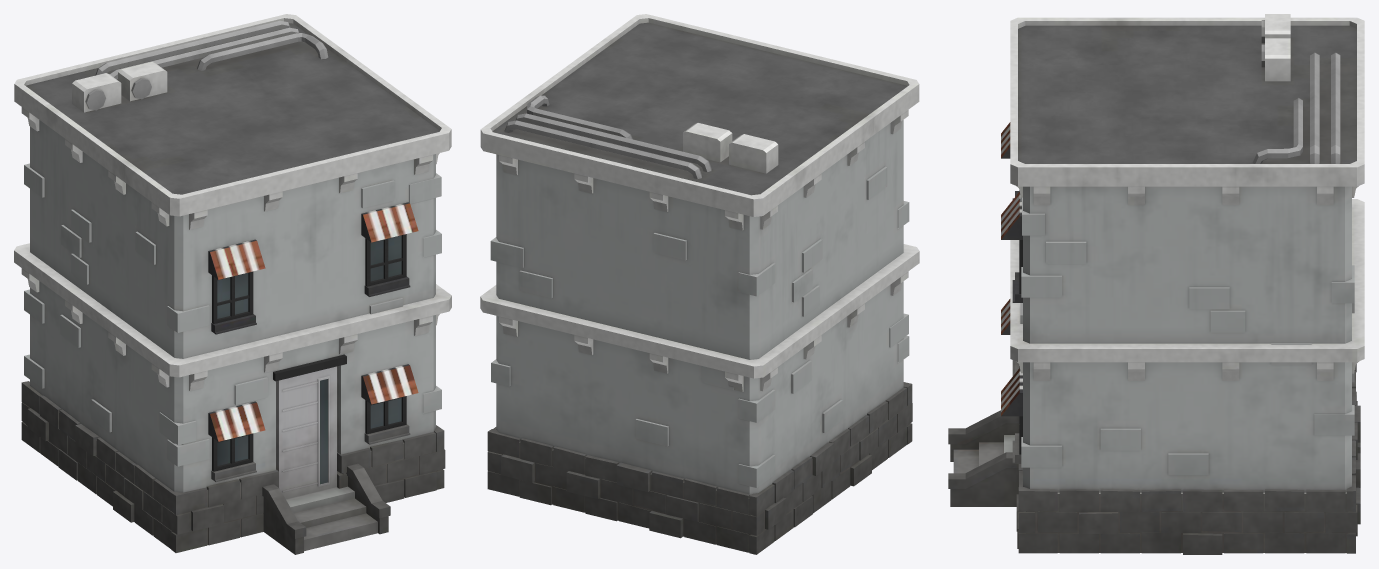
Rendered from building_2Story.glb.
The picture shows the model from 3 angles, left to right: view 1: azimuth 30°, elevation 25°; view 2: azimuth 150°, elevation 25°; view 3: azimuth 270°, elevation 25°; orthographic projection. The views are drawn at different scales.
Parts seen in each view (by area): view 1: 2Story_high; view 2: 2Story_high; view 3: 2Story_high.
Boxes of the visible parts, left/top/right/bottom form: 2Story_high: left=14, top=14, right=451, bottom=554; 2Story_high: left=480, top=14, right=919, bottom=554; 2Story_high: left=948, top=14, right=1364, bottom=554.
Size of the model in its own units: 2.16 by 2.75 by 2.53.
Materials: 2 (2 with a texture image).
